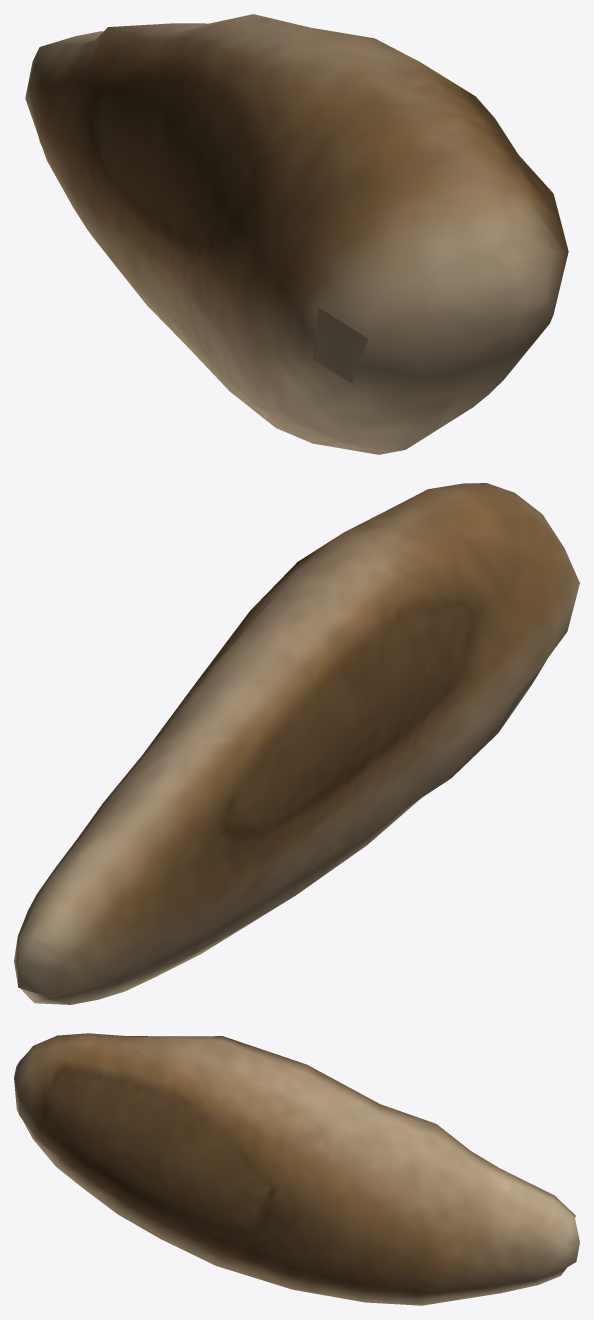
File: Lower_Incisor1.glb
The picture shows the model from 3 angles, top to bottom: view 1: azimuth 30°, elevation 25°; view 2: azimuth 150°, elevation 25°; view 3: azimuth 270°, elevation 25°; orthographic projection. The views are drawn at different scales.
Visible parts, largest first — view 1: Lower_Incisor3; view 2: Lower_Incisor3; view 3: Lower_Incisor3.
Part boxes in pixels (box(x1,y1,x2,y2)): Lower_Incisor3: box(25, 14, 568, 454); Lower_Incisor3: box(14, 483, 579, 1004); Lower_Incisor3: box(14, 1033, 579, 1305).
Size of the model in its own units: 0.0115 by 0.0147 by 0.0316.
Materials: 1 (1 with a texture image).
